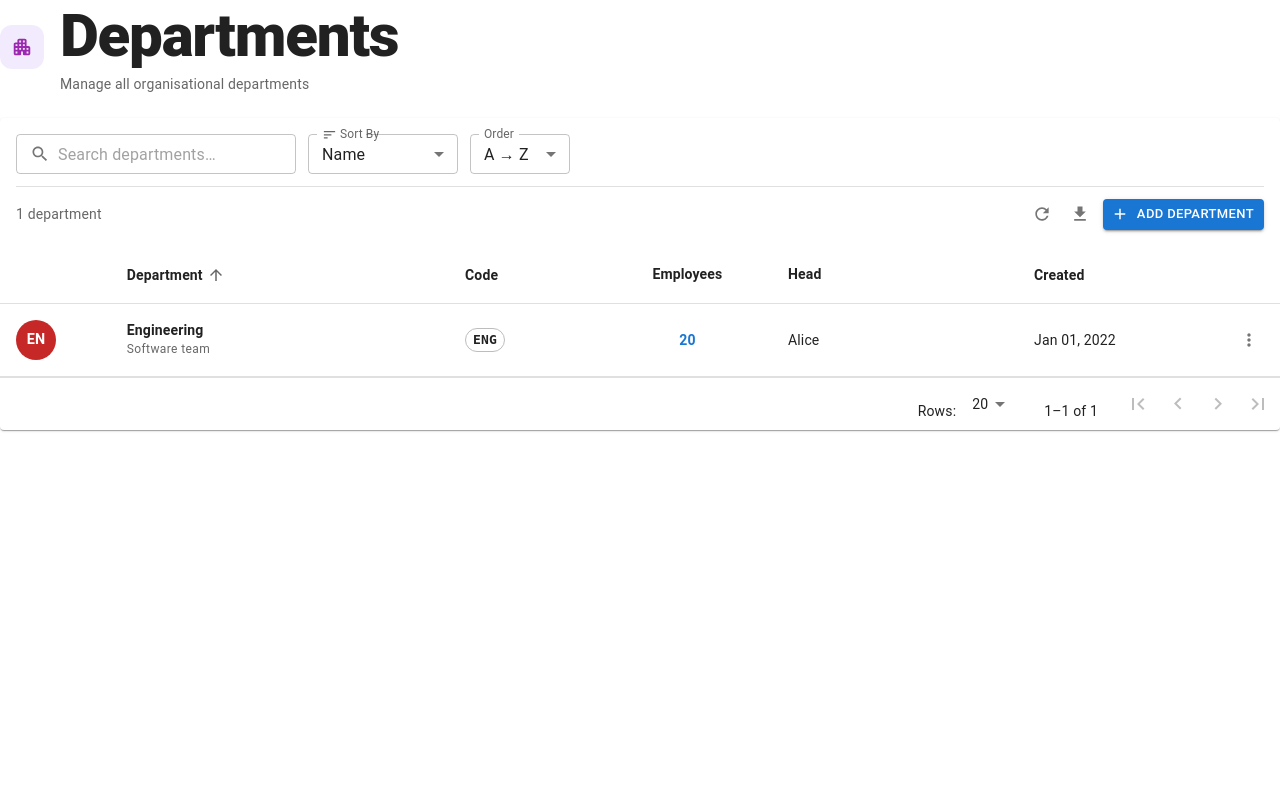
Test: DepartmentsPage › opens create dialog when Add is clicked
This screenshot has width=1280, height=800.
What coordinates should you click on to do the following:
click the button with aria-label "add new department"
I would click on:
 (1183, 214)
Its box is [1103, 199, 1264, 230].
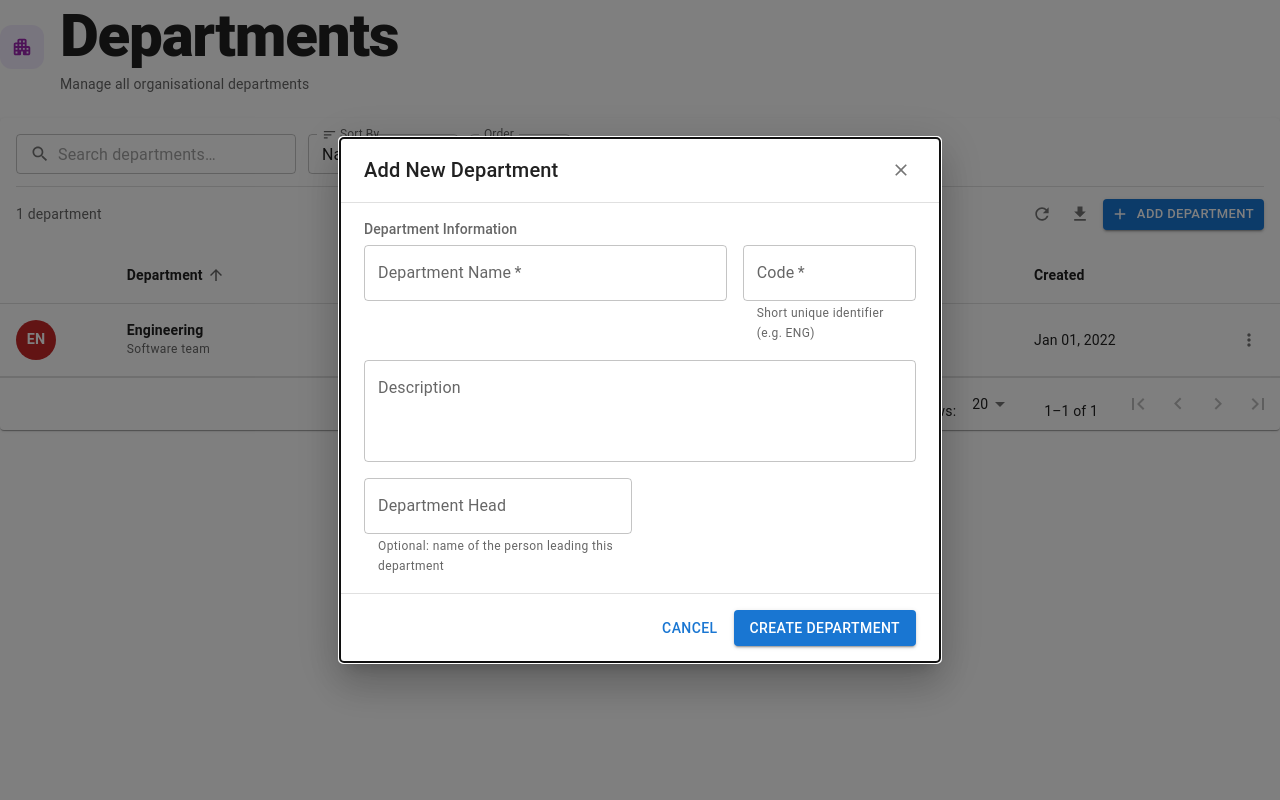
Result: the dialog "Add New Department" is shown at [340, 138, 940, 662]
